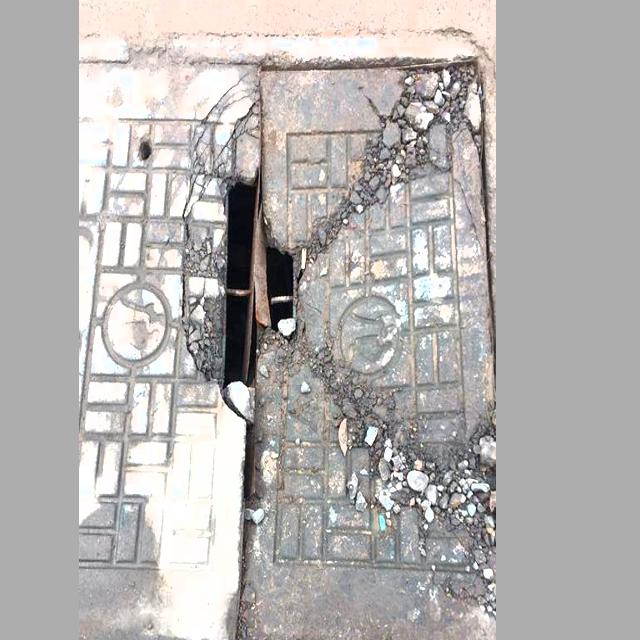broke: (84, 28, 495, 640)
